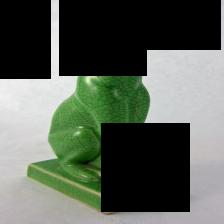green: (27, 14, 186, 214)
